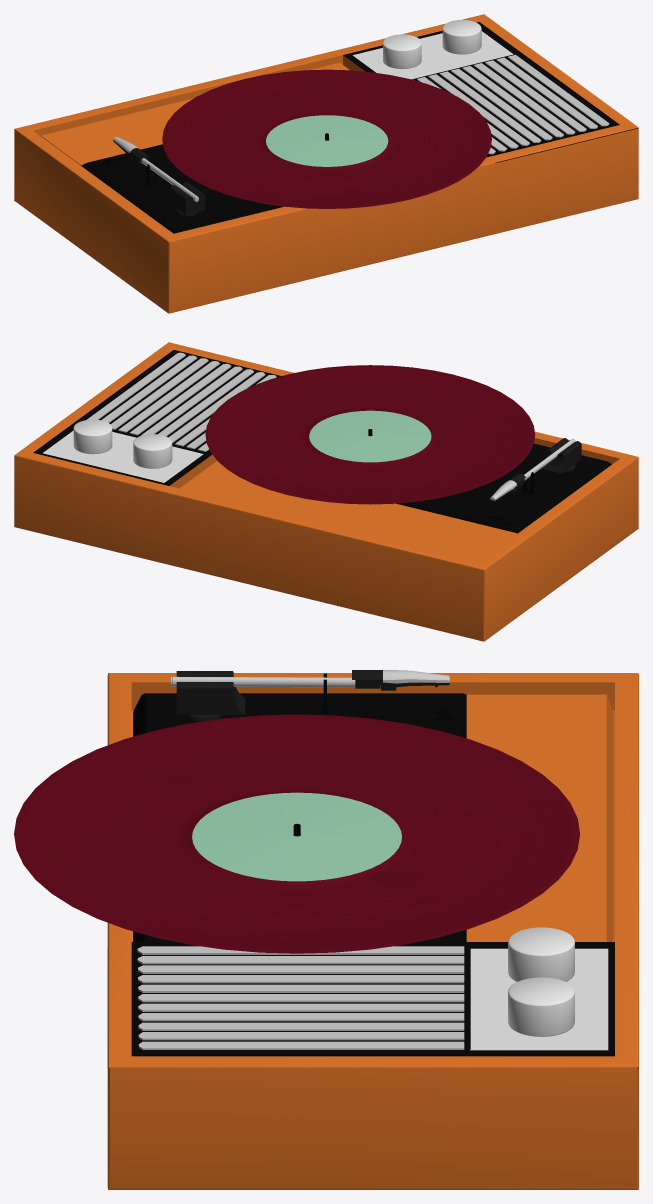
The model's file is vinyl_player.fbx.
3 views of the same model, one above another, from view 1: azimuth 30°, elevation 25°; view 2: azimuth 150°, elevation 25°; view 3: azimuth 270°, elevation 25° (orthographic). The views are drawn at different scales.
Parts seen in each view (by area): view 1: box, Vinyl, volume2, volume1, Cube.001; view 2: box, Vinyl, volume2, volume1, Cube.001; view 3: box, Vinyl, volume2, volume1, Cube.001, Cylinder, Cylinder.002.
Boxes of the visible parts, <box> form: box: <box>14,14,638,313</box>; Vinyl: <box>162,69,491,208</box>; volume2: <box>442,20,481,54</box>; volume1: <box>383,34,421,68</box>; Cube.001: <box>166,182,205,214</box>; box: <box>14,342,638,641</box>; Vinyl: <box>205,365,535,504</box>; volume2: <box>73,419,112,454</box>; volume1: <box>133,434,172,468</box>; Cube.001: <box>543,438,581,473</box>; box: <box>107,673,638,1189</box>; Vinyl: <box>14,714,579,953</box>; volume2: <box>508,977,574,1036</box>; volume1: <box>508,927,574,981</box>; Cube.001: <box>176,671,245,714</box>; Cylinder: <box>170,676,355,687</box>; Cylinder.002: <box>352,670,449,690</box>.
Bounding box in the file's own units: 351 × 68.31 × 235.
